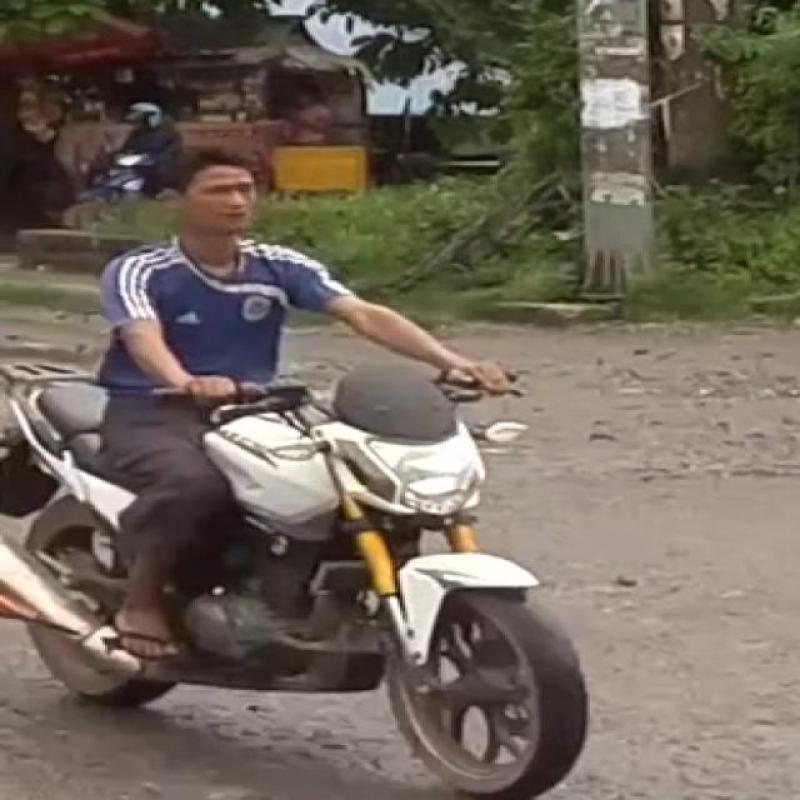nohelmet: (161, 140, 350, 285)
